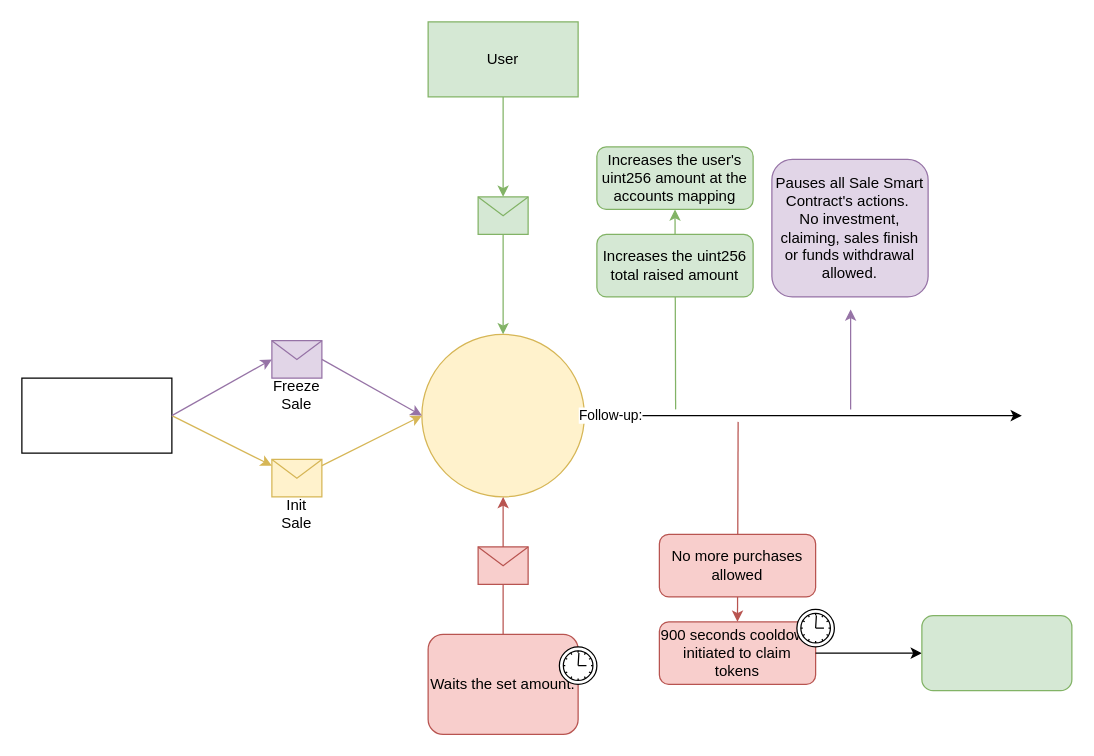
Some shapes in this 1094 by 756 pixel diagram are drawn without their labels. Here are the shapes that lost their labels. From the top down, the centre of each, then its label:
point (502, 215): Invest
point (96, 415): Sales factory
point (502, 415): SALE
point (502, 565): Finish Sales
point (996, 652): Users claim allowed
